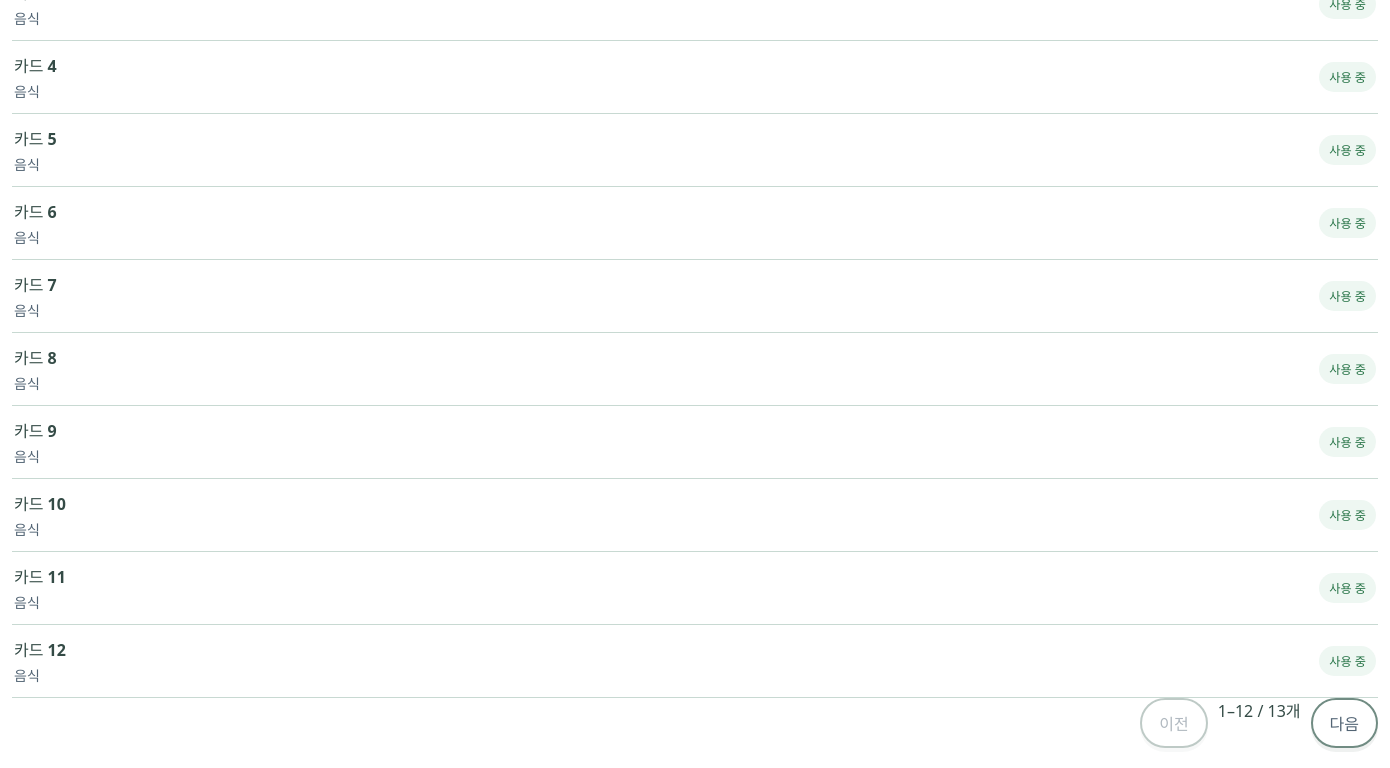
Test: limits the visible list to twelve cards and supports the last page
(page scrolled)
Check: the text "카드 13" is not shown
What coordinates should you click on to do the following:
click the button "다음"
I would click on:
 (1344, 723)
Its box is [1310,698,1378,748].
(page scrolled)
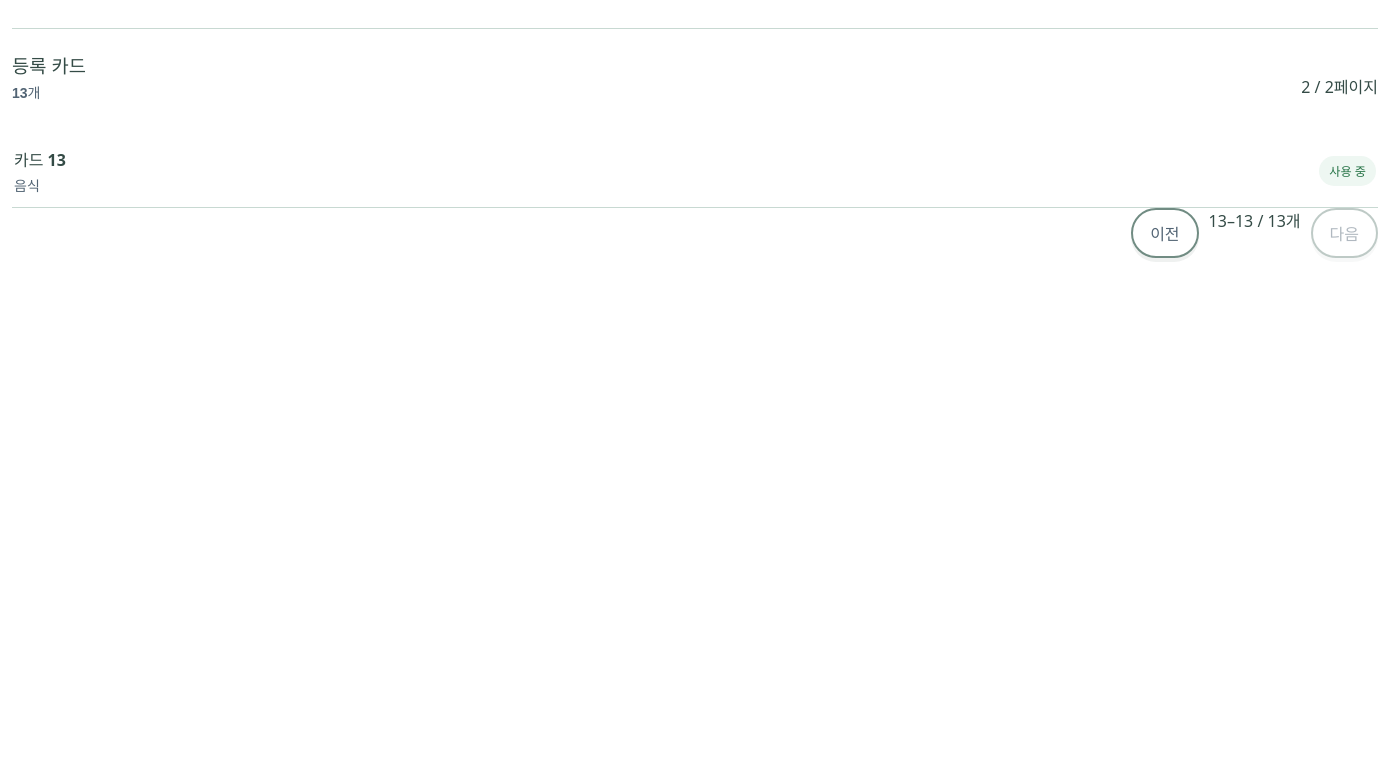
Check: the number of list items is 1, box [12,135,1378,208]
Check: the text "카드 13" is shown, box [14,147,66,171]
Check: the button "다음" is disabled, box [1310,208,1378,258]
